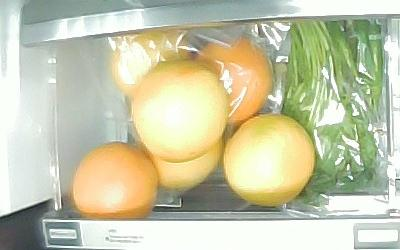grapefruit: (130, 61, 229, 164), (223, 113, 318, 207), (69, 142, 160, 219)
grapefruit_vinyl: (196, 37, 273, 126), (109, 31, 194, 92), (145, 137, 224, 191)
